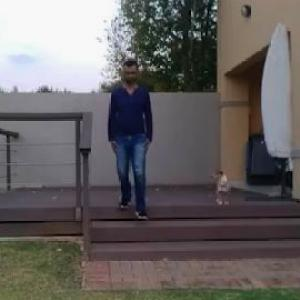follow: (106, 59, 148, 221)
